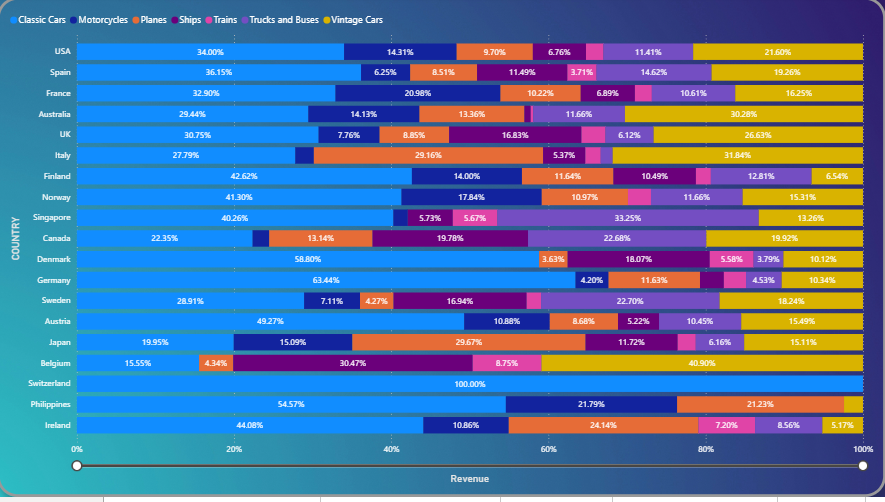

The dashboard page shown, as its layout file describes it:
{"tool":"powerbi","page":{"name":"100% Stacked Bar/Column Chart","canvas":[1280,720],"ordinal":7},"visuals":[{"type":"hundredPercentStackedBarChart","fields":{"Category":["Vehicle Orders.COUNTRY"],"Series":["Vehicle Orders.PRODUCTLINE"],"Y":["Measure Table.Revenue"]},"box":[0,0,1280,720],"z":0}]}

Visuals, with their boxes in screenshot pixels (x1, y1, x2, y2), scaled from the page's 1280x720 canvas onto the 885x502 screenshot:
hundredPercentStackedBarChart - Vehicle Orders.COUNTRY x Vehicle Orders.PRODUCTLINE: detection(0, 0, 884, 501)
